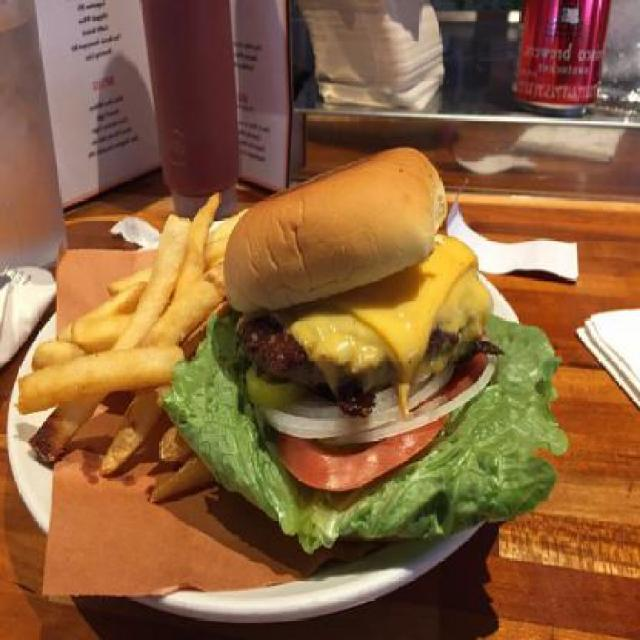french fries: (21, 204, 234, 490)
hamburger: (230, 141, 496, 507)
